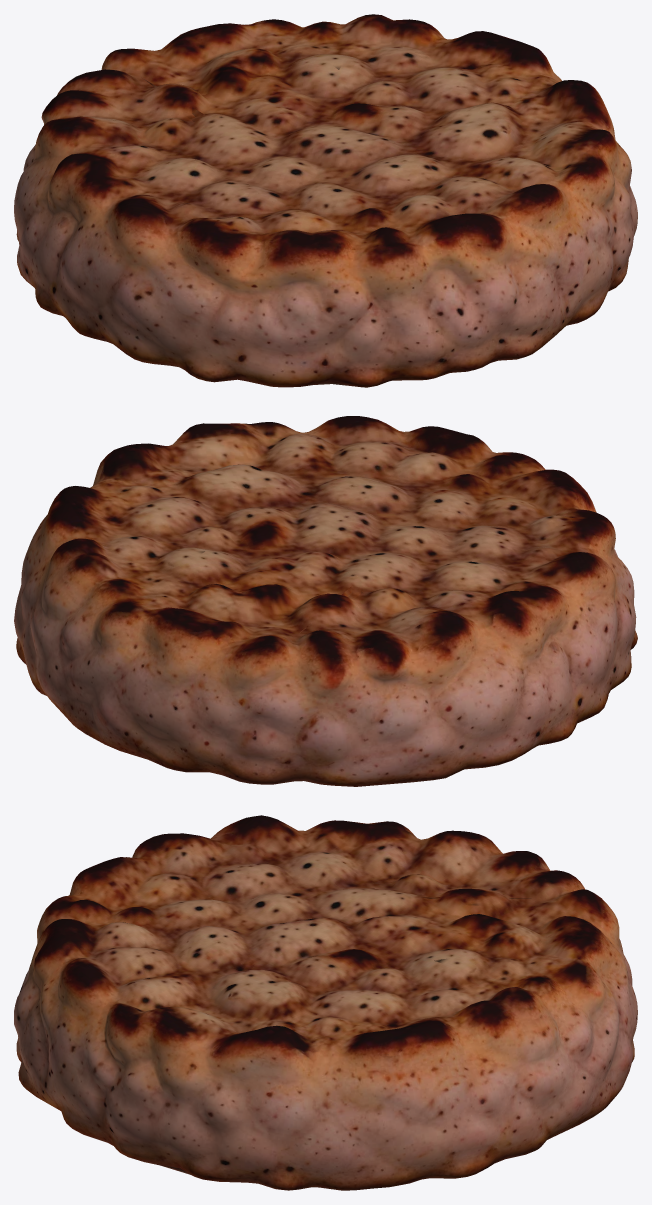
File: patty.glb
The picture shows the model from 3 angles, top to bottom: view 1: azimuth 30°, elevation 25°; view 2: azimuth 150°, elevation 25°; view 3: azimuth 270°, elevation 25°; orthographic projection.
Parts seen in each view (by area): view 1: material; view 2: material; view 3: material.
Boxes of the visible parts, x1,y1,x2,y2 form: material: [14, 14, 637, 387]; material: [14, 416, 637, 786]; material: [14, 815, 637, 1190].
Size of the model in its own units: 1.9 by 0.4799 by 1.9.
1 material, 1 textured.
